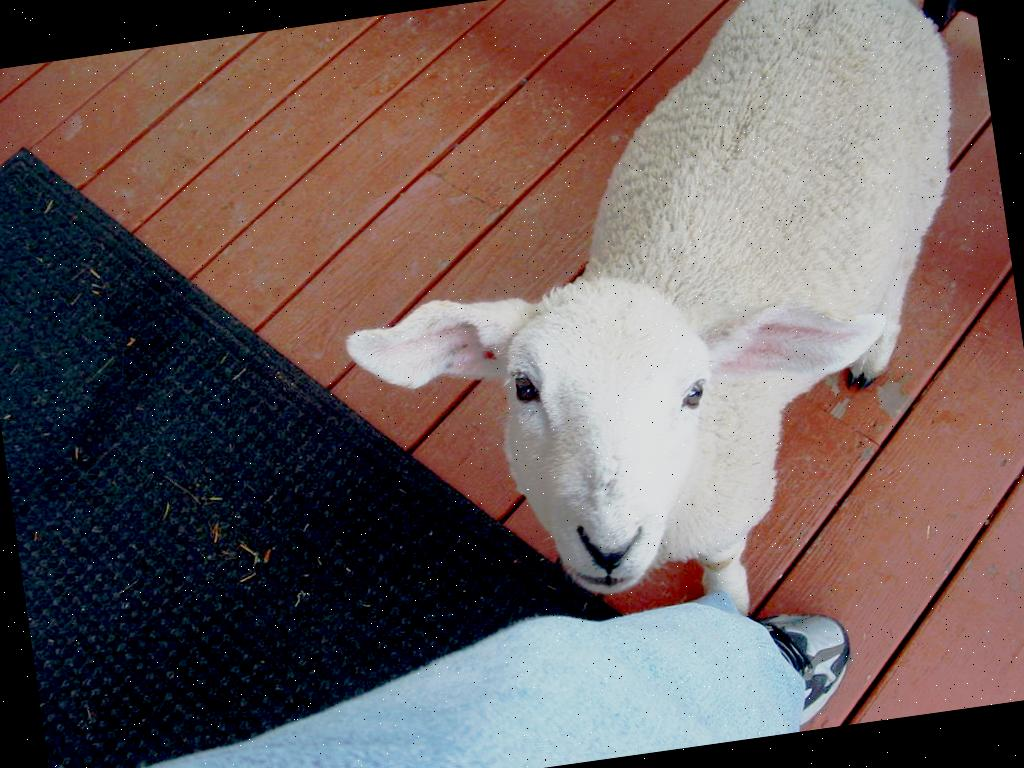Sheep: (301, 0, 1024, 668)
